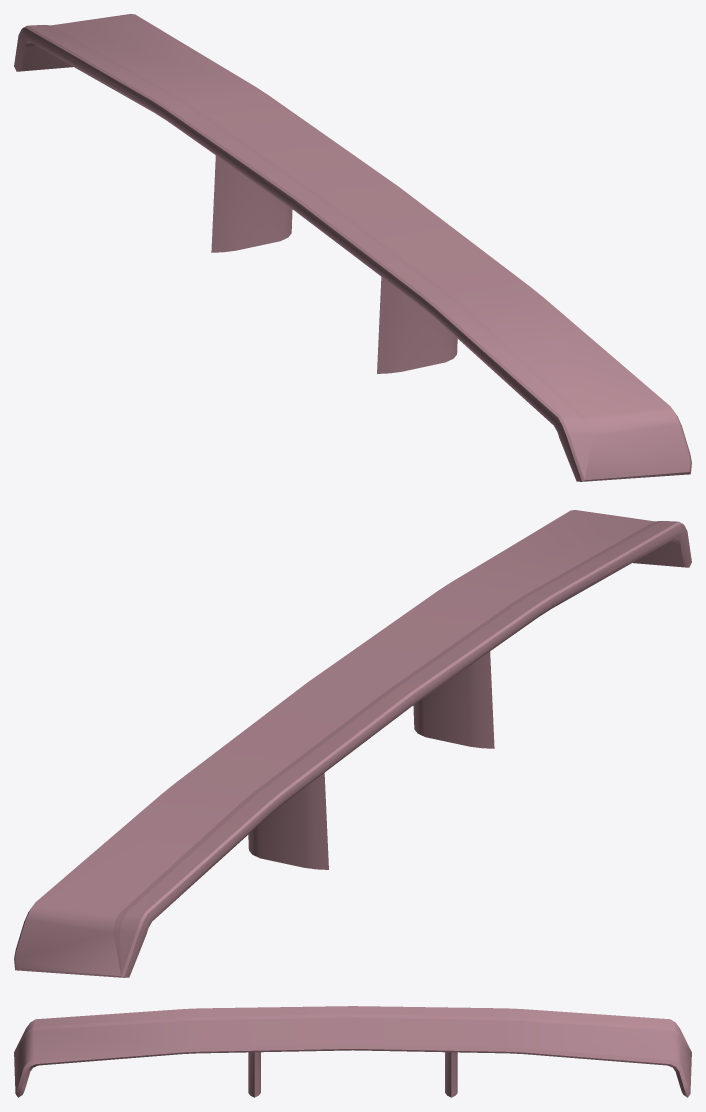
3 views of the same model, one above another, from view 1: azimuth 30°, elevation 25°; view 2: azimuth 150°, elevation 25°; view 3: azimuth 270°, elevation 25° (orthographic). The views are drawn at different scales.
Parts seen in each view (by area): view 1: sp3; view 2: sp3; view 3: sp3.
Boxes of the visible parts, x1,y1,x2,y2 form: sp3: (14,14,691,481); sp3: (14,510,691,977); sp3: (14,1006,691,1097).
Size of the model in its own units: 0.1896 by 0.1715 by 1.53.
